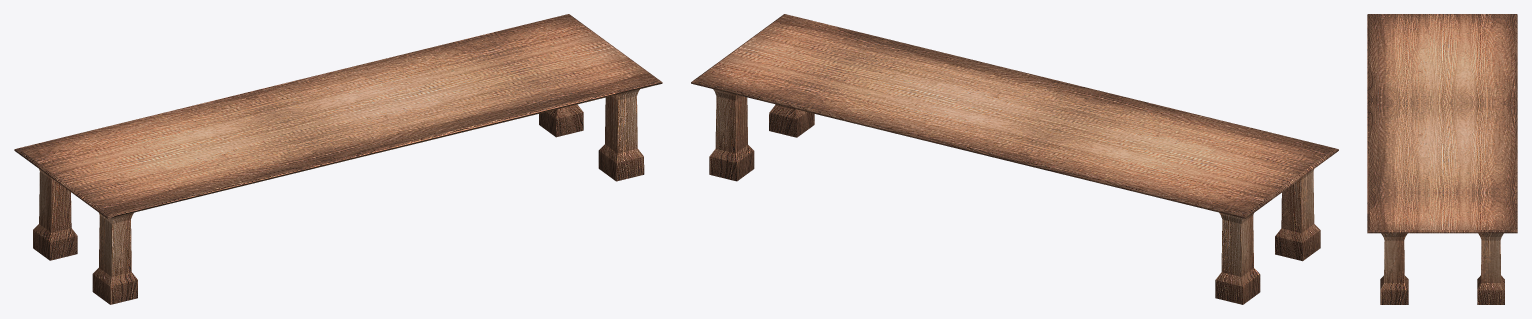
The model's file is BGMD_Tabel.fbx.
3 renders of one model, left to right at view 1: azimuth 30°, elevation 25°; view 2: azimuth 150°, elevation 25°; view 3: azimuth 270°, elevation 25°, orthographic. The views are drawn at different scales.
Parts seen in each view (by area): view 1: BGMD_Tabel; view 2: BGMD_Tabel; view 3: BGMD_Tabel.
Part boxes in pixels (bbox=[...]): BGMD_Tabel: bbox=[14, 14, 662, 304]; BGMD_Tabel: bbox=[691, 14, 1338, 304]; BGMD_Tabel: bbox=[1367, 14, 1517, 304].
Size of the model in its own units: 337 by 56.42 by 98.15.
Materials: 1 (1 with a texture image).
